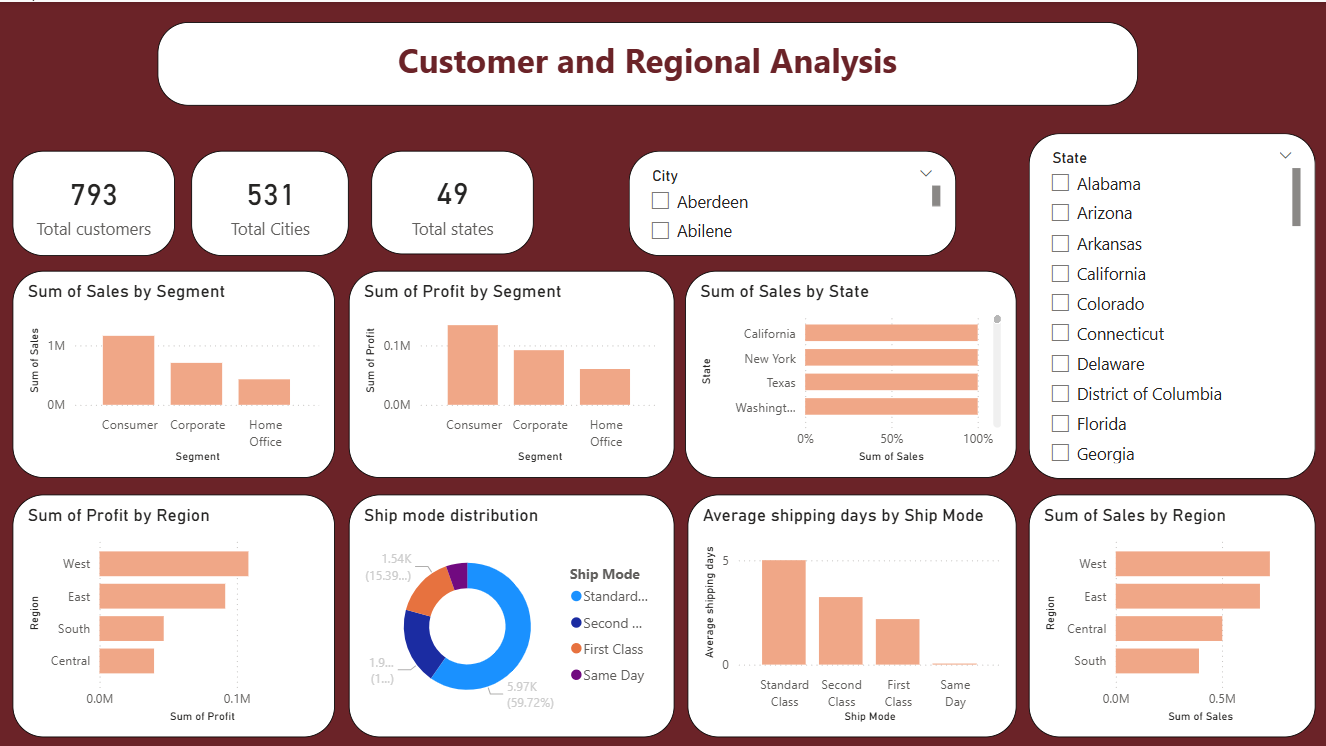

The page's visual inventory and layout, read from the dashboard file:
{"tool":"powerbi","page":{"name":"Customer & Regional Analysis","canvas":[1280,720],"ordinal":2},"visuals":[{"type":"card","fields":{"Values":["superstore.Total customers"]},"box":[11.6,143.5,156.5,101.4],"z":0},{"type":"card","fields":{"Values":["superstore.Total states"]},"box":[358,143.5,156.5,100],"z":1},{"type":"card","fields":{"Values":["superstore.Total Cities"]},"box":[184.1,143.5,152.2,101.4],"z":2},{"type":"clusteredColumnChart","fields":{"Category":["superstore.Segment"],"Y":["Sum(superstore.Sales)"]},"box":[11.6,259.4,311.6,200],"z":3},{"type":"clusteredColumnChart","fields":{"Category":["superstore.Segment"],"Y":["Sum(superstore.Profit)"]},"box":[336.2,259.4,314.5,200],"z":4},{"type":"clusteredBarChart","fields":{"Category":["superstore.Region"],"Y":["Sum(superstore.Sales)"]},"box":[992.8,475.4,276.8,234.8],"z":5},{"type":"clusteredBarChart","fields":{"Category":["superstore.Region"],"Y":["Sum(superstore.Profit)"]},"box":[11.6,475.4,311.6,234.8],"z":6},{"type":"hundredPercentStackedBarChart","fields":{"Category":["superstore.State"],"Y":["Sum(superstore.Sales)"]},"box":[660.9,259.4,320.3,200],"z":7},{"type":"donutChart","title":"Ship mode distribution","fields":{"Y":["CountNonNull(superstore.Order ID)"],"Category":["superstore.Ship Mode"]},"box":[336.2,475.4,314.5,234.8],"z":8},{"type":"clusteredColumnChart","fields":{"Category":["superstore.Ship Mode"],"Y":["superstore.Average shipping days"]},"box":[663.8,475.4,317.4,234.8],"z":9},{"type":"slicer","fields":{"Values":["superstore.City"]},"box":[607.2,143.5,315.9,101.4],"z":10},{"type":"slicer","fields":{"Values":["superstore.State"]},"box":[992.8,126.1,276.8,333.3],"z":11},{"type":"textbox","box":[152.2,18.8,946.4,81.2],"z":12}]}

Visuals, with their boxes in screenshot pixels (x1, y1, x2, y2), scaled from the page's 1280x720 canvas onto the 1326x746 screenshot:
card - superstore.Total customers: <region>12, 149, 174, 254</region>
card - superstore.Total states: <region>371, 149, 533, 252</region>
card - superstore.Total Cities: <region>191, 149, 348, 254</region>
clusteredColumnChart - superstore.Segment x Sum(superstore.Sales): <region>12, 269, 335, 476</region>
clusteredColumnChart - superstore.Segment x Sum(superstore.Profit): <region>348, 269, 674, 476</region>
clusteredBarChart - superstore.Region x Sum(superstore.Sales): <region>1028, 493, 1315, 736</region>
clusteredBarChart - superstore.Region x Sum(superstore.Profit): <region>12, 493, 335, 736</region>
hundredPercentStackedBarChart - superstore.State x Sum(superstore.Sales): <region>685, 269, 1016, 476</region>
"Ship mode distribution" donutChart: <region>348, 493, 674, 736</region>
clusteredColumnChart - superstore.Ship Mode x superstore.Average shipping days: <region>688, 493, 1016, 736</region>
slicer - superstore.City: <region>629, 149, 956, 254</region>
slicer - superstore.State: <region>1028, 131, 1315, 476</region>
textbox: <region>158, 19, 1138, 104</region>
